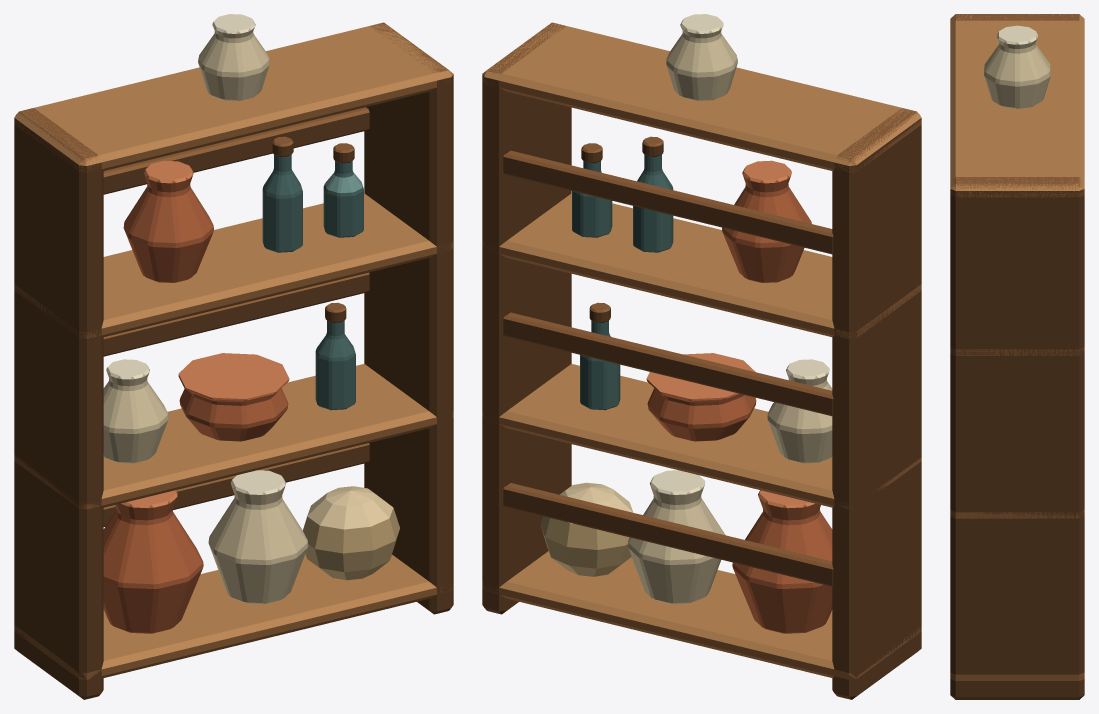
Rendered from prateleira.fbx.
3 renders of one model, left to right at view 1: azimuth 30°, elevation 25°; view 2: azimuth 150°, elevation 25°; view 3: azimuth 270°, elevation 25°, orthographic. The views are drawn at different scales.
Parts seen in each view (by area): view 1: prateleira; view 2: prateleira; view 3: prateleira.
Boxes of the visible parts, left/top/right/bottom form: prateleira: left=14, top=14, right=453, bottom=699; prateleira: left=482, top=14, right=921, bottom=699; prateleira: left=950, top=14, right=1084, bottom=699.
Bounding box in the file's own units: 92 × 143 × 30.
